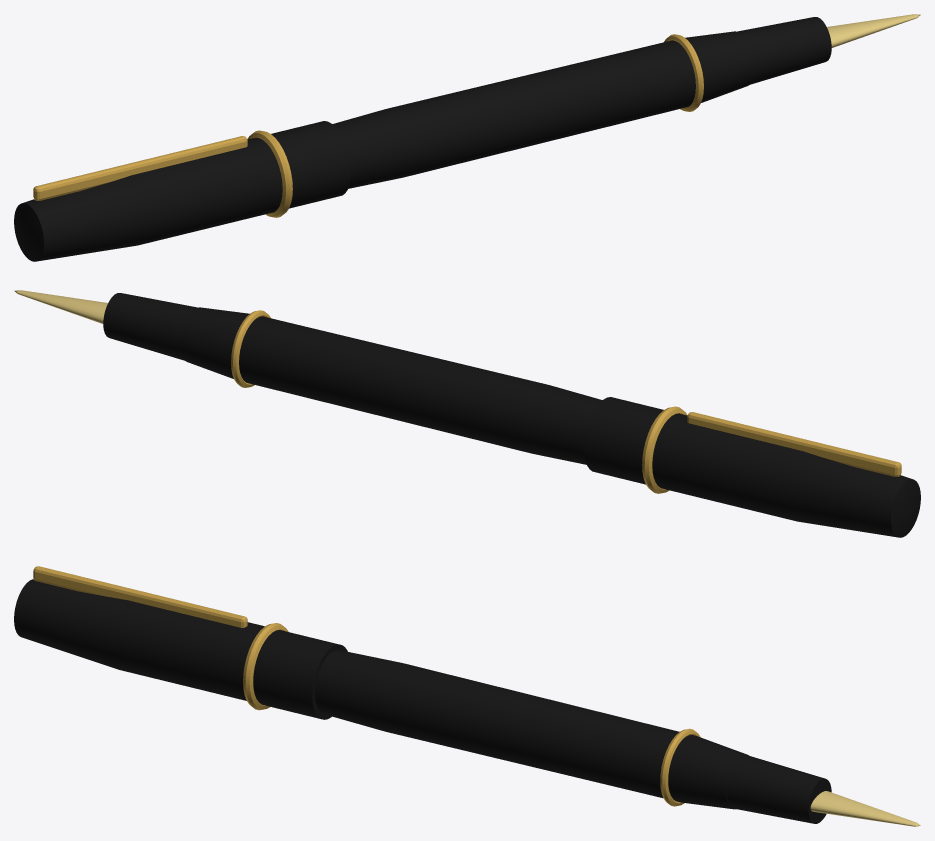
File: pen.fbx
3 views of the same model, one above another, from view 1: azimuth 30°, elevation 25°; view 2: azimuth 150°, elevation 25°; view 3: azimuth 330°, elevation 25° (orthographic).
Parts seen in each view (by area): view 1: barrel, cap, section, clip, nib, band, band2; view 2: barrel, cap, section, clip, nib, band, band2; view 3: barrel, cap, section, clip, nib, band, band2.
Boxes of the visible parts, x1=… form: barrel: x1=332, y1=31, x2=754, y2=188; cap: x1=14, y1=121, x2=350, y2=261; section: x1=737, y1=17, x2=831, y2=84; clip: x1=33, y1=136, x2=247, y2=200; nib: x1=827, y1=14, x2=920, y2=47; band: x1=247, y1=130, x2=292, y2=217; band2: x1=664, y1=34, x2=703, y2=111; barrel: x1=180, y1=307, x2=602, y2=464; cap: x1=584, y1=397, x2=920, y2=537; section: x1=103, y1=293, x2=197, y2=360; clip: x1=687, y1=412, x2=901, y2=476; nib: x1=14, y1=290, x2=107, y2=323; band: x1=642, y1=406, x2=687, y2=493; band2: x1=231, y1=310, x2=270, y2=387; barrel: x1=315, y1=650, x2=748, y2=809; cap: x1=14, y1=579, x2=347, y2=719; section: x1=727, y1=755, x2=831, y2=823; clip: x1=33, y1=566, x2=247, y2=627; nib: x1=810, y1=791, x2=920, y2=826; band: x1=243, y1=623, x2=288, y2=710; band2: x1=660, y1=728, x2=700, y2=806.
Bounding box in the file's own units: 0.169 × 0.0152 × 0.0146.
